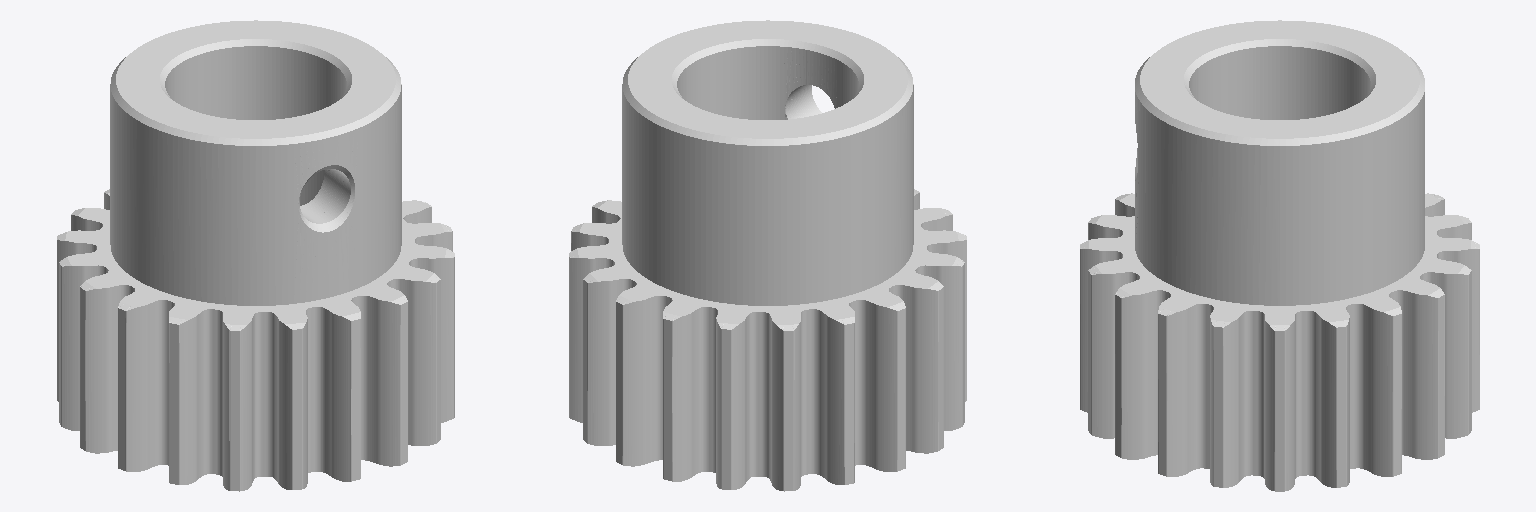
The robot description file, URDF, robot "industreal_gear_small":
<?xml version="1.0"?>
<robot name="industreal_gear_small">
    <link name="industreal_gear_small">
        <visual>
            <geometry>
                <mesh filename="../mesh/TVB_mesh/tvb_gear_small.obj" scale="1 1 1"/>
            </geometry>
            <material name="gear_metal">
                <color rgba="0.9 0.9 0.9 1.0"/>
            </material>
        </visual>
        <collision>
            <geometry>
                <mesh filename="../mesh/TVB_mesh/tvb_gear_small.obj" scale="1 1 1"/>
            </geometry>
            <sdf resolution="32"/>
        </collision>
    </link>
</robot>

--- Facts derived from the render (not from the file) ---
The picture shows the robot from 3 angles, left to right: view 1: azimuth 30°, elevation 25°; view 2: azimuth 150°, elevation 25°; view 3: azimuth 270°, elevation 25°; orthographic projection.
Robot: industreal_gear_small — 1 links, 0 joints (none); root link industreal_gear_small; default pose: every joint at zero.
Links seen in each view (by area): view 1: industreal_gear_small; view 2: industreal_gear_small; view 3: industreal_gear_small.
Link boxes in pixels (bbox=[...]): industreal_gear_small: bbox=[57, 20, 454, 491]; industreal_gear_small: bbox=[569, 20, 966, 491]; industreal_gear_small: bbox=[1080, 20, 1479, 491].
Bounding box of the posed robot: 0.022 × 0.022 × 0.02 m (x, y, z).
Meshes: 1 distinct files referenced, 1 mesh visuals loaded (1 OBJ).
